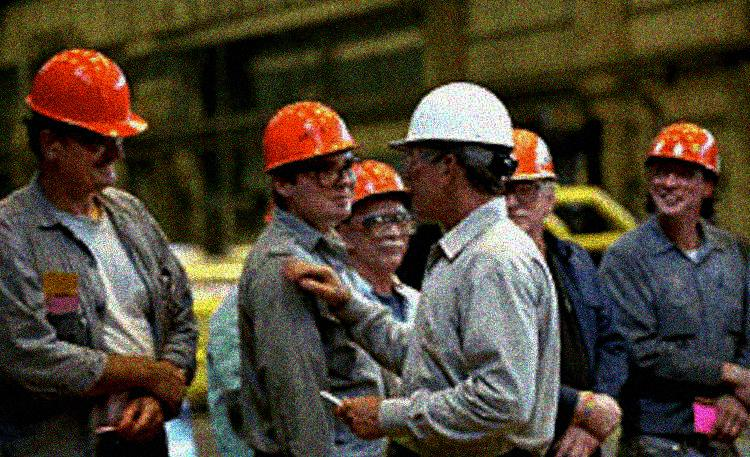helmet: (388, 76, 519, 221), (21, 48, 149, 195), (257, 96, 363, 229), (335, 156, 418, 273), (643, 120, 725, 221), (493, 121, 560, 235)
